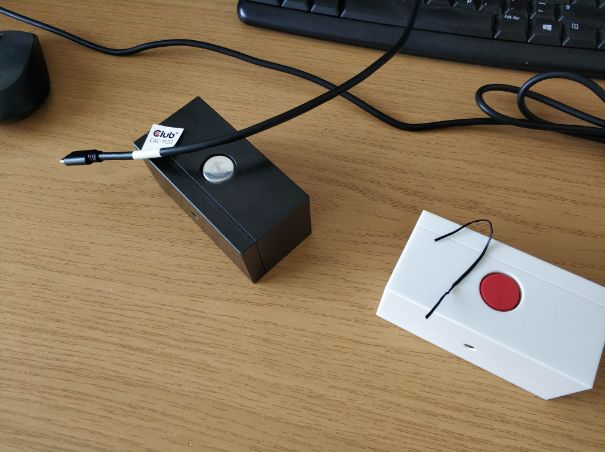black+black+silver: (124, 94, 318, 286)
white+white+red: (375, 208, 605, 403)
